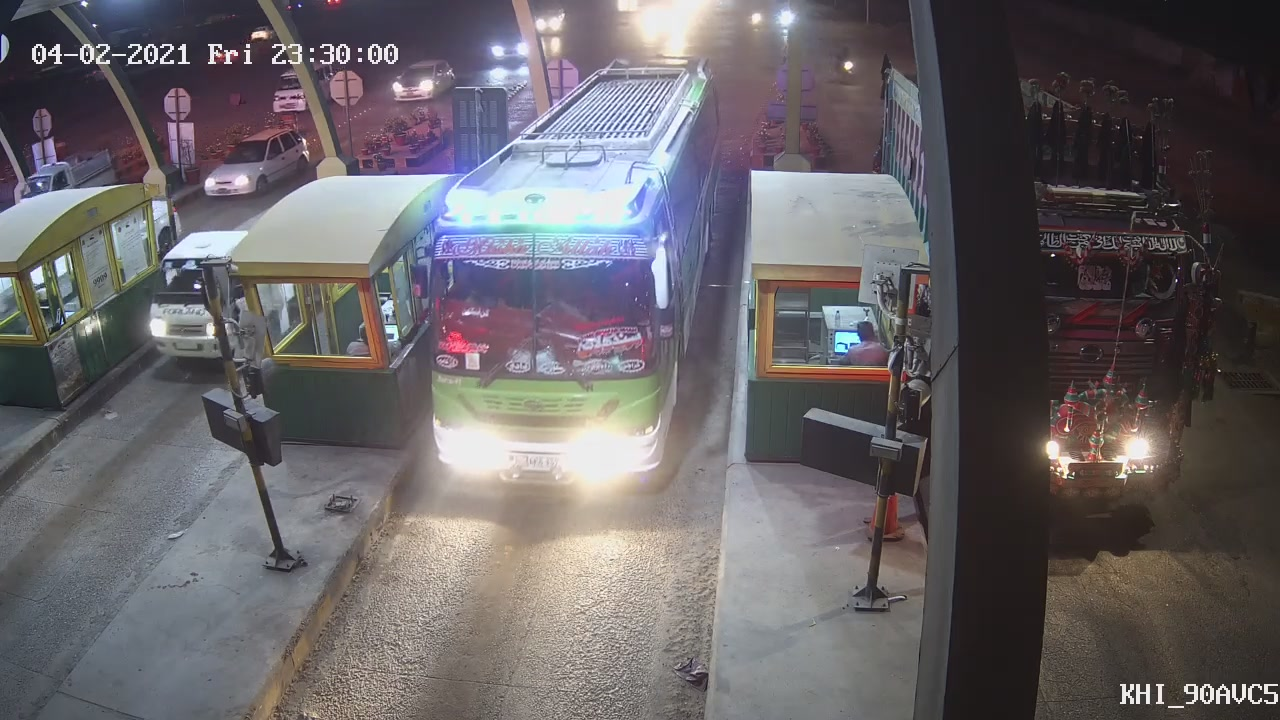F3: (413, 58, 712, 500)
